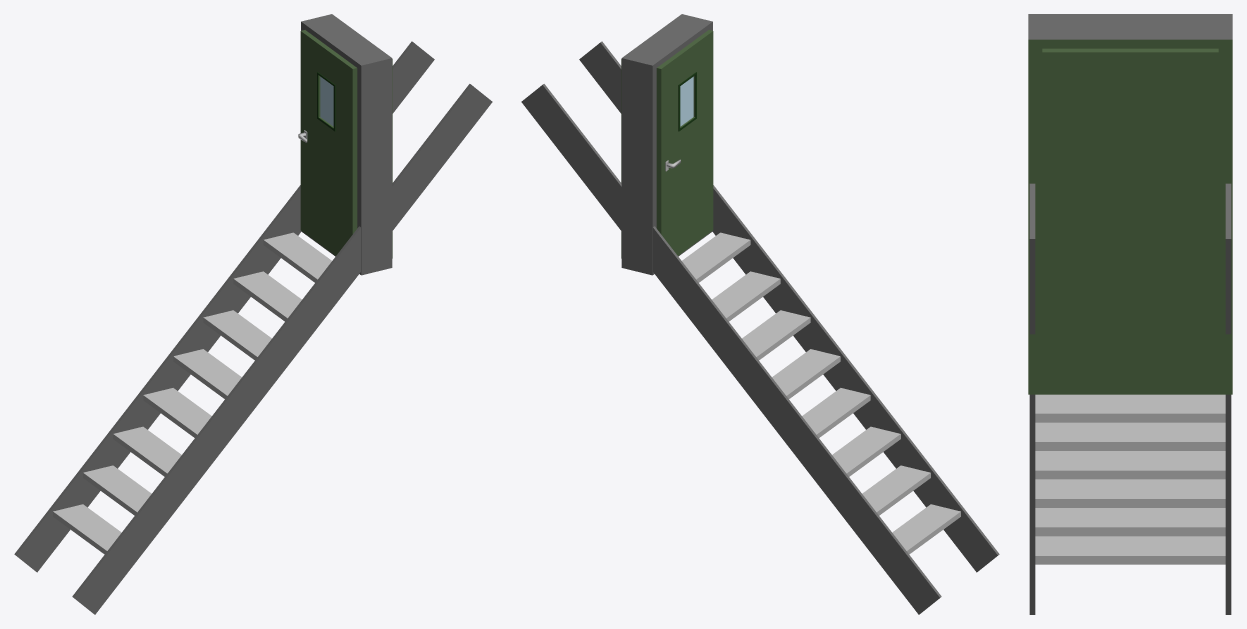
File: door.fbx
3 renders of one model, left to right at view 1: azimuth 30°, elevation 25°; view 2: azimuth 150°, elevation 25°; view 3: azimuth 270°, elevation 25°, orthographic. The views are drawn at different scales.
Visible parts, largest first — view 1: door; view 2: door; view 3: door.
Boxes of the visible parts, box(x1,y1,x2,y2) form: door: box(14, 14, 492, 614); door: box(521, 14, 999, 614); door: box(1028, 14, 1232, 614).
Size of the model in its own units: 104 by 418 by 462.
